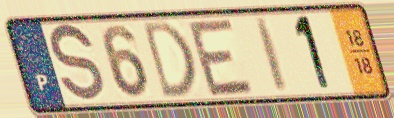1: (289, 12, 335, 94)
6: (99, 23, 151, 102)
D: (139, 17, 200, 102)
E: (184, 16, 259, 100)
I: (252, 15, 292, 95)
S: (49, 21, 107, 107)
